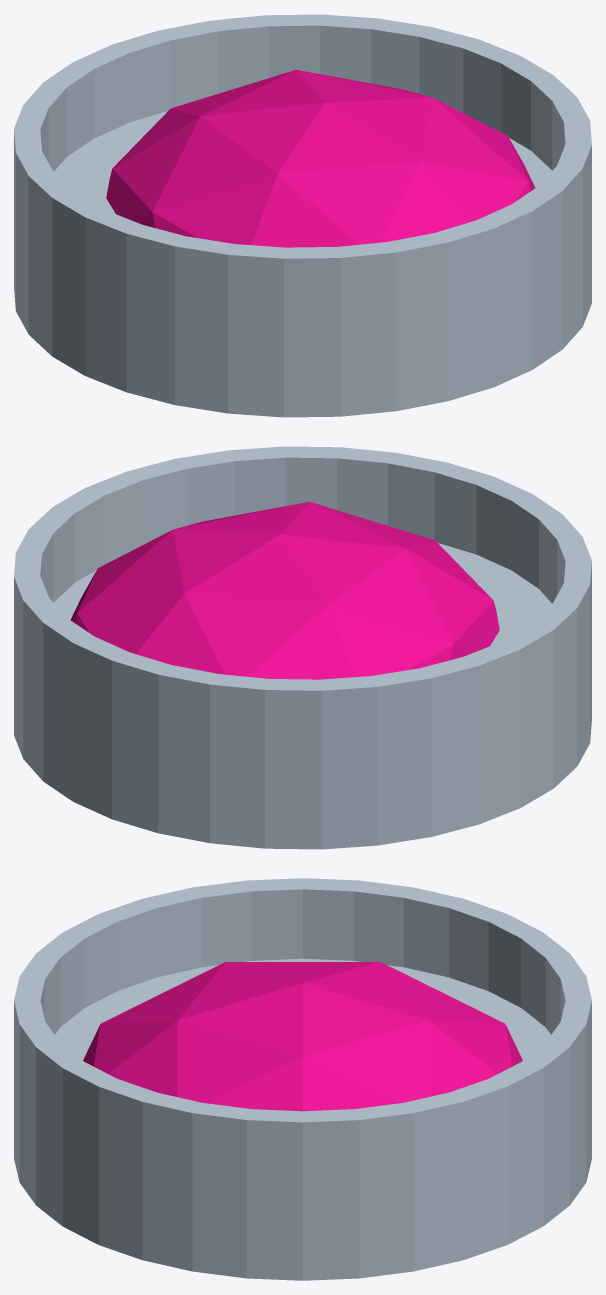
The model's file is cristal3.glb.
3 renders of one model, top to bottom at view 1: azimuth 30°, elevation 25°; view 2: azimuth 150°, elevation 25°; view 3: azimuth 270°, elevation 25°, orthographic.
Visible parts, largest first — view 1: Cilindro, Esfera geodésica; view 2: Cilindro, Esfera geodésica; view 3: Cilindro, Esfera geodésica.
Part boxes in pixels (box(x1,y1,x2,y2)): Cilindro: box(14, 14, 591, 417); Esfera geodésica: box(106, 69, 535, 247); Cilindro: box(14, 446, 591, 849); Esfera geodésica: box(70, 501, 499, 679); Cilindro: box(14, 878, 591, 1280); Esfera geodésica: box(83, 962, 522, 1111).
Size of the model in its own units: 2 by 0.7131 by 2.
